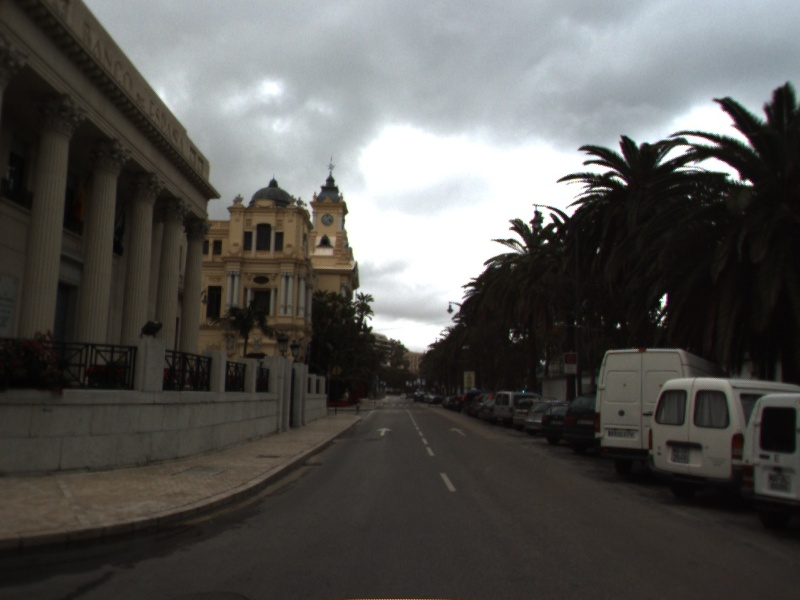STRAIGHT: (448, 425, 468, 438), (374, 425, 393, 438)
